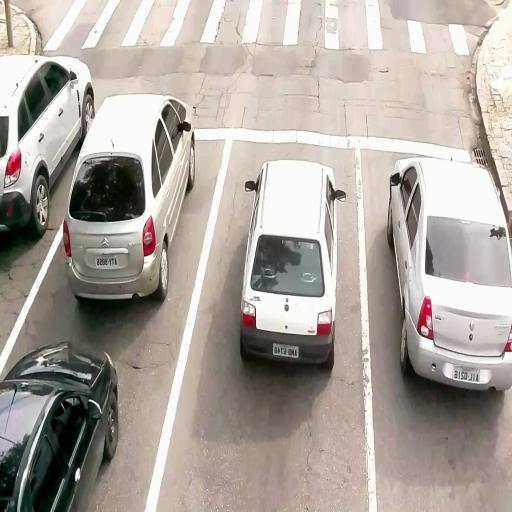car: (388, 152, 512, 388), (66, 92, 190, 300), (240, 158, 344, 370), (0, 344, 120, 512), (0, 56, 95, 238)
